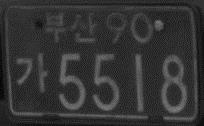0: (129, 10, 155, 45)
1: (130, 50, 149, 115)
5: (57, 50, 89, 111), (90, 52, 122, 113)
8: (160, 52, 190, 111)
9: (103, 10, 129, 44)
가: (14, 51, 50, 94)
부산_O: (43, 10, 98, 44)
